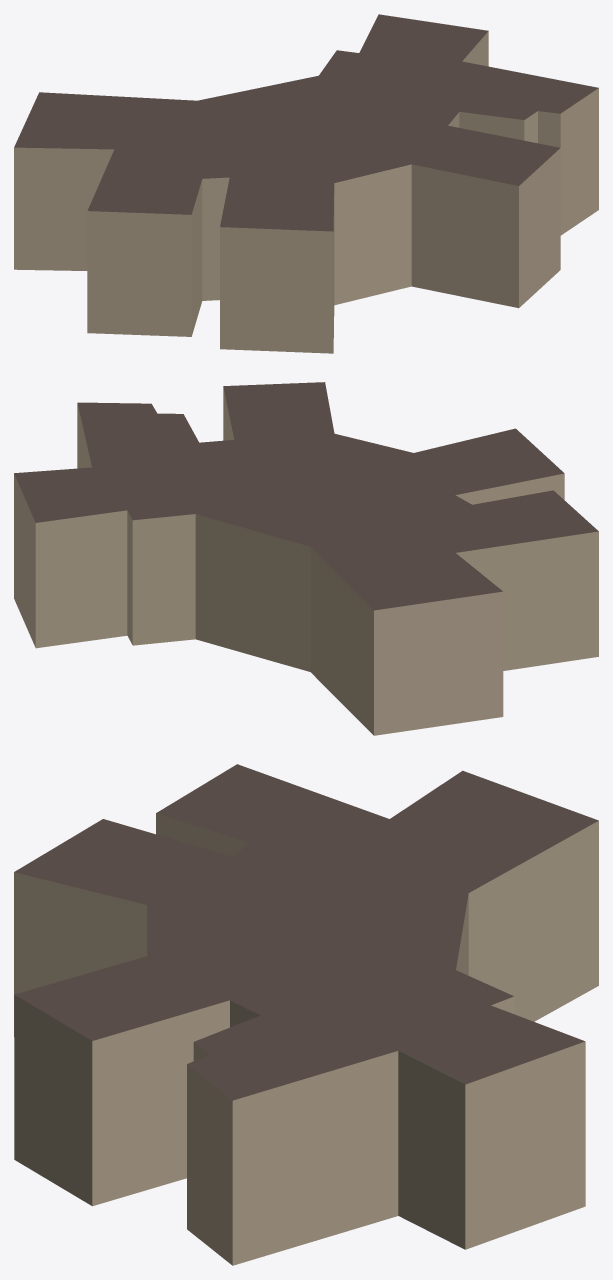
The picture shows the model from 3 angles, top to bottom: view 1: azimuth 30°, elevation 25°; view 2: azimuth 150°, elevation 25°; view 3: azimuth 270°, elevation 25°; orthographic projection. The views are drawn at different scales.
Visible parts, largest first — view 1: HP-w1516161930; view 2: HP-w1516161930; view 3: HP-w1516161930.
Boxes of the visible parts, bbox=[...] form: HP-w1516161930: bbox=[14, 14, 598, 353]; HP-w1516161930: bbox=[14, 382, 598, 735]; HP-w1516161930: bbox=[14, 764, 598, 1265].
Bounding box in the file's own units: 39.31 × 9 × 28.88.
